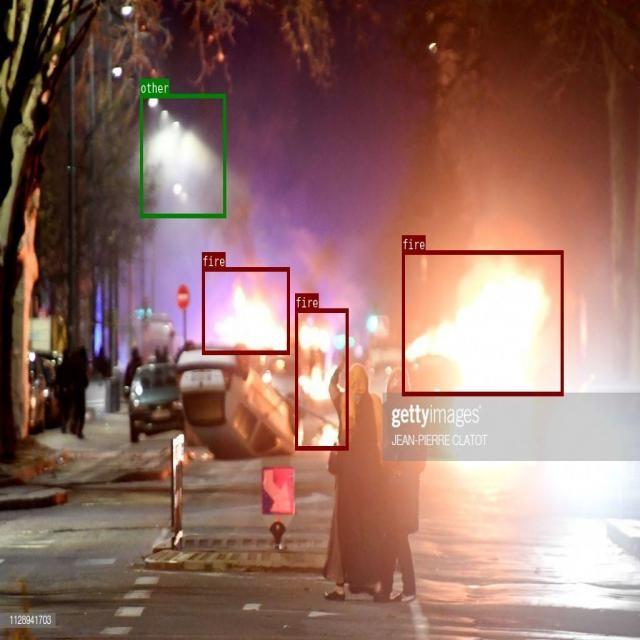fire: (402, 249, 563, 395), (201, 266, 289, 354), (295, 308, 348, 449)
